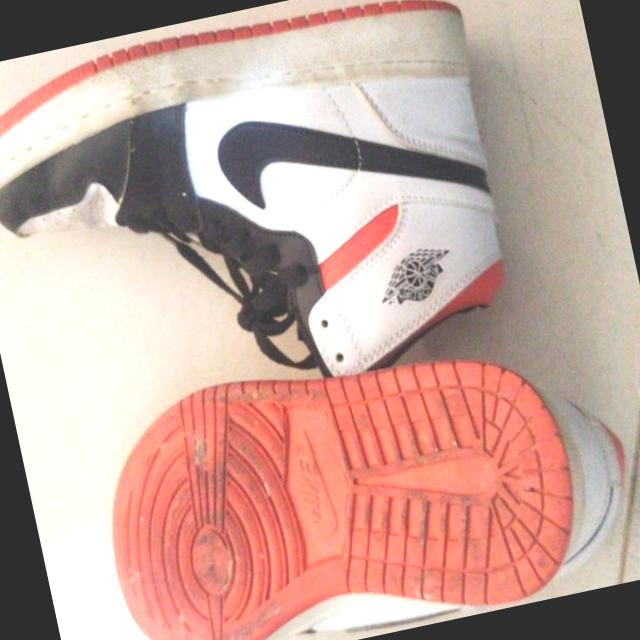nike_fake_jordan: (0, 0, 539, 451)
